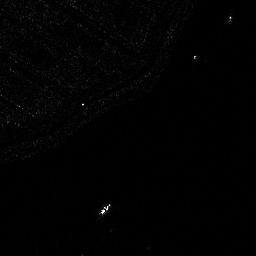ship: (99, 201, 112, 215)
